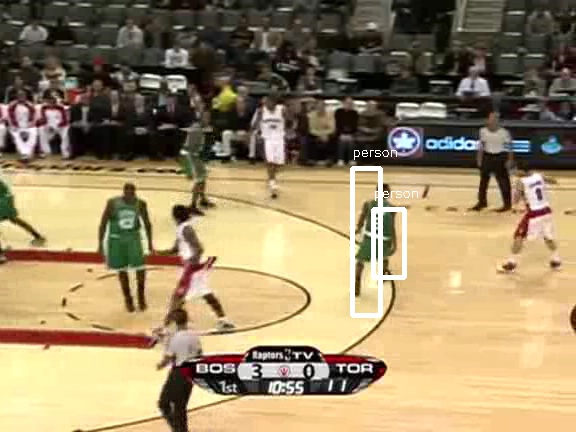person: (363, 194, 397, 275), (362, 194, 396, 275), (364, 194, 398, 275), (363, 193, 397, 274), (363, 195, 397, 276)
target_negative: (234, 40, 413, 316), (372, 155, 541, 382), (313, 283, 460, 413), (432, 34, 493, 149), (194, 169, 262, 225), (540, 331, 570, 409)
